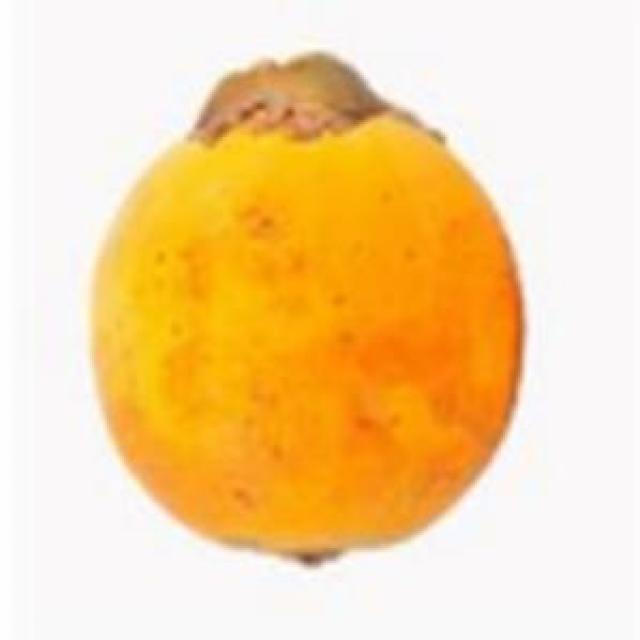good: (86, 54, 527, 567)
